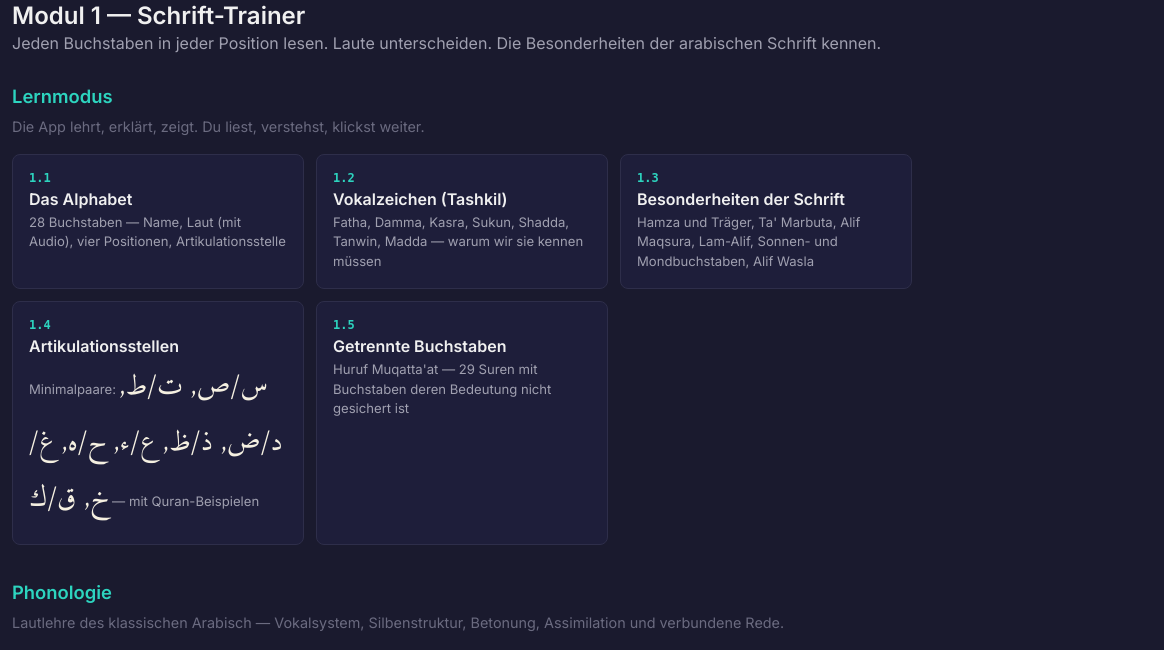
Test: Lesson 1.1 — Letter Grid and Detail › letter detail shows all four positional forms
Click the text "Das Alphabet" at (81, 199), box 29,189 -> 132,209
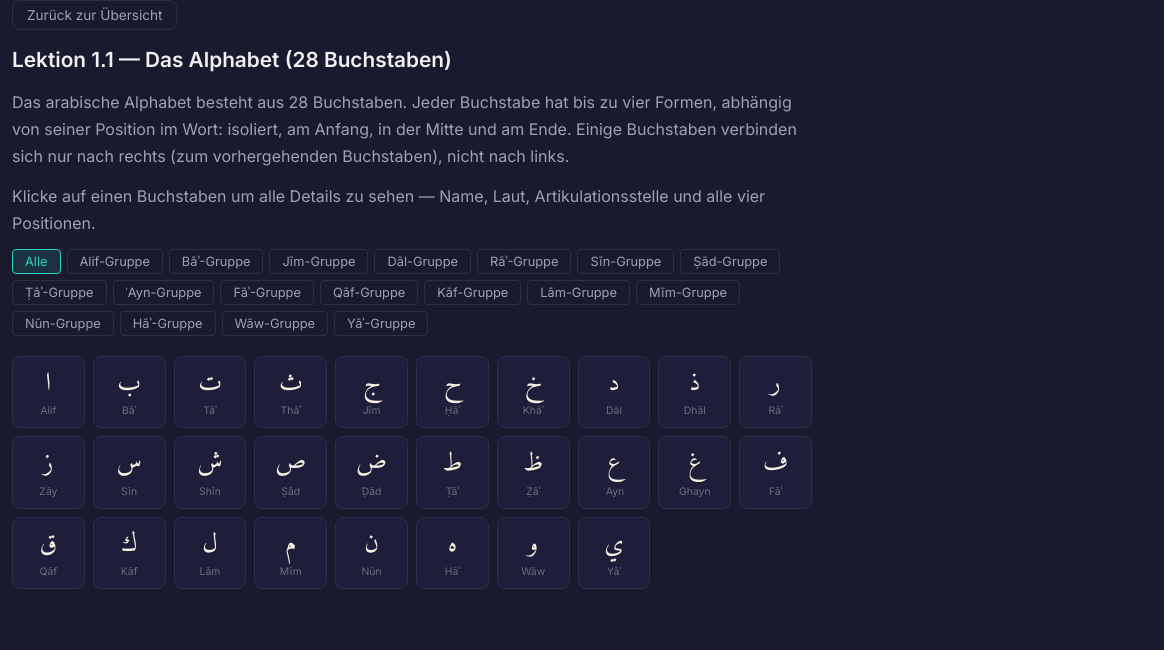
Now the heading "Lektion 1.1 — Das Alphabet (28 Buchstaben)" is shown, box 12,47 -> 452,72
Click the text "Alif" at (48, 411), box 40,404 -> 56,417
(page scrolled)
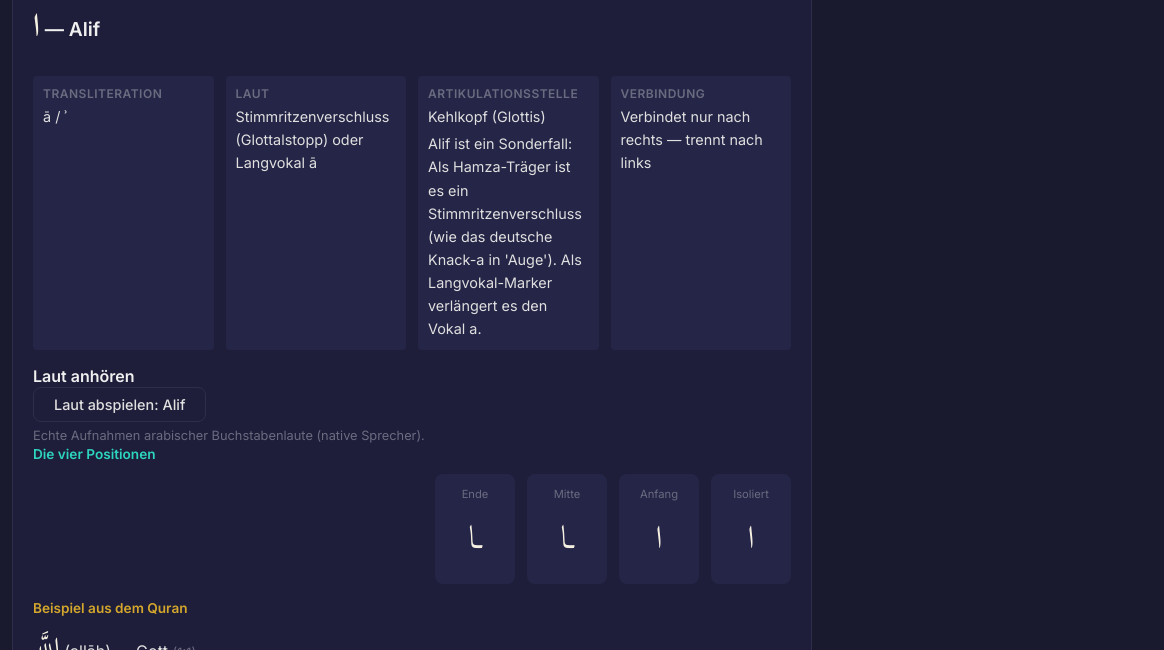
Now the heading "Die vier Positionen" is shown, box 33,446 -> 156,462
Now the text "Isoliert" is shown, box 733,486 -> 769,504
Now the text "Anfang" is shown, box 640,486 -> 678,504
